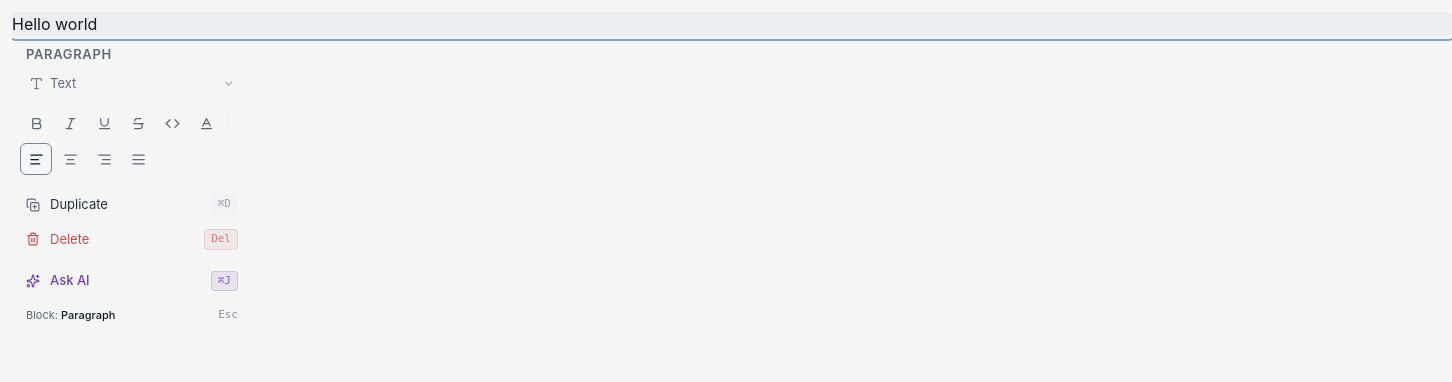
it: EditorBlockMenu — text blocks › changes block type (e.g. paragraph to Heading 1) via the block type dropdown
This screenshot has width=1452, height=382.
Expected: the element with test id "editor-block-menu" is shown, [12,36,252,333]
Step 1. Press the mouse on the button with test id "block-type-trigger" → x=132, y=83, box [20,67,244,99]
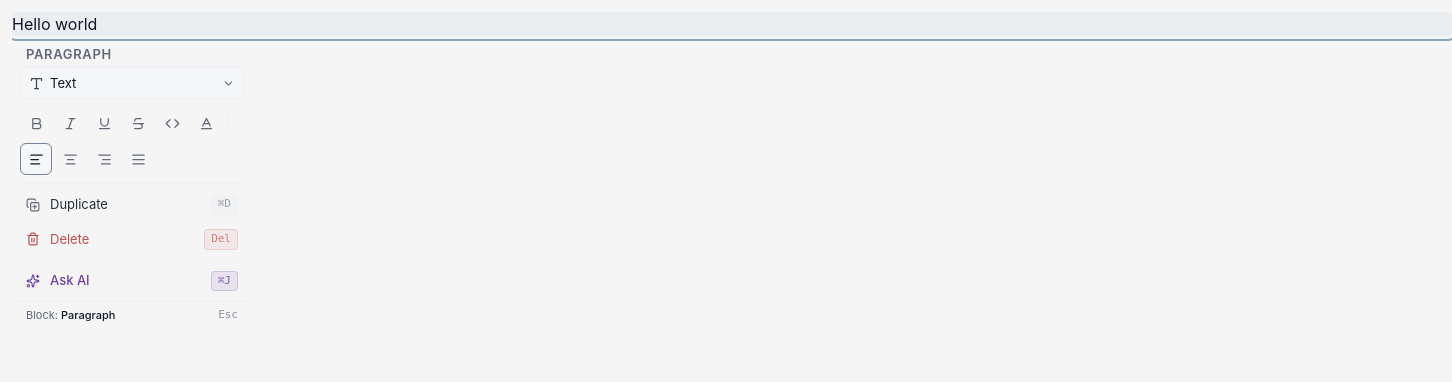
Step 2. Click the button with test id "block-type-trigger" → x=132, y=83, box [20,67,244,99]
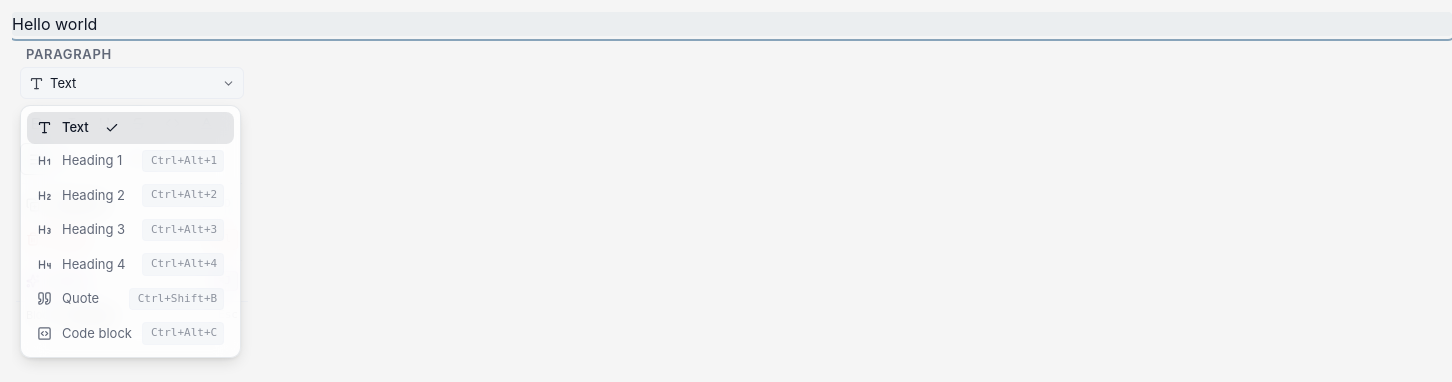
Step 3. Click the menu item "Heading 1 Ctrl+Alt+1" → x=92, y=160, box [27,144,234,178]
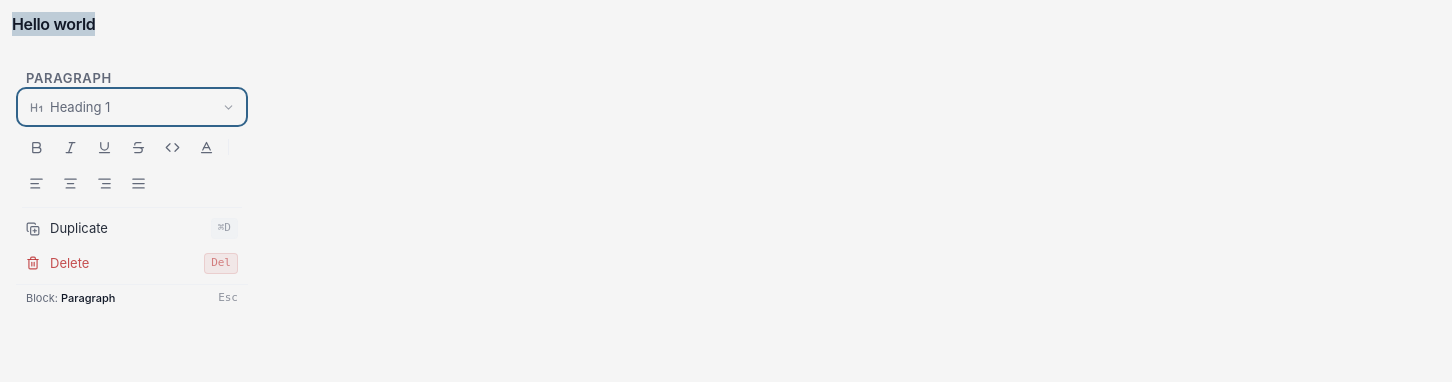
Result: the button with test id "block-type-trigger" reads "Heading 1" at [20,91,244,123]
